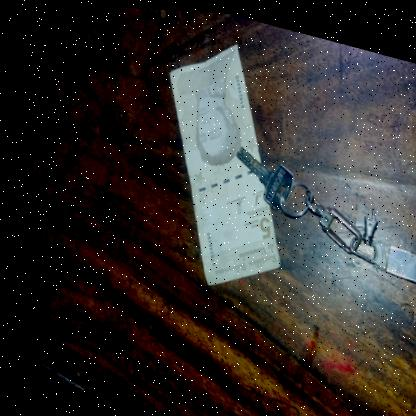five-front-vef: (121, 22, 321, 304)
